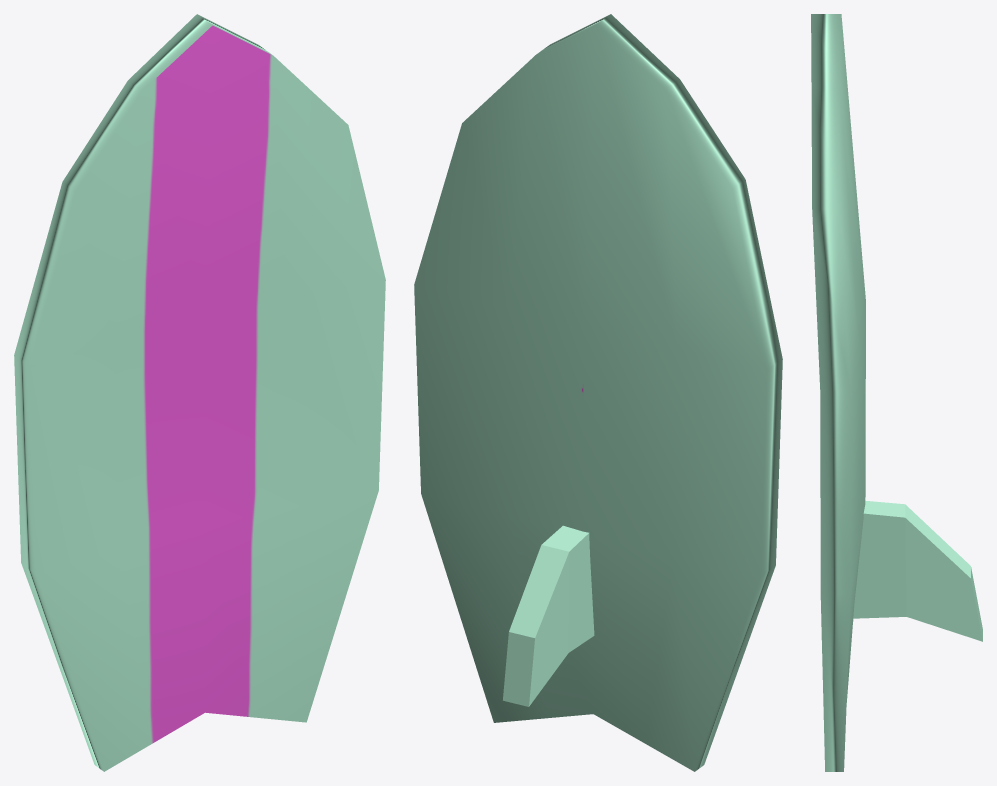
The model's file is Prancha.fbx.
3 views of the same model, side by side, from view 1: azimuth 30°, elevation 25°; view 2: azimuth 150°, elevation 25°; view 3: azimuth 270°, elevation 25° (orthographic). The views are drawn at different scales.
Visible parts, largest first — view 1: Cube; view 2: Cube, Cube.001; view 3: Cube, Cube.001.
Part boxes in pixels (x1,y1,x2,y2): Cube: (14, 14, 385, 771); Cube: (414, 14, 782, 771); Cube.001: (503, 525, 594, 706); Cube: (811, 14, 865, 771); Cube.001: (853, 500, 982, 641).
Bounding box in the file's own units: 716 × 1398 × 307.
Materials: 1 (1 with a texture image).
